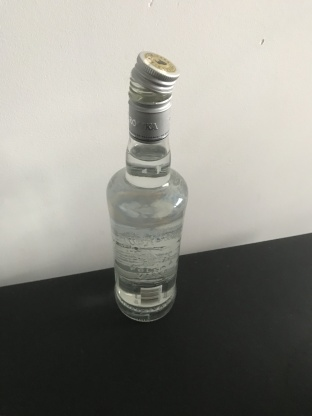nakretka: (126, 48, 181, 145)
